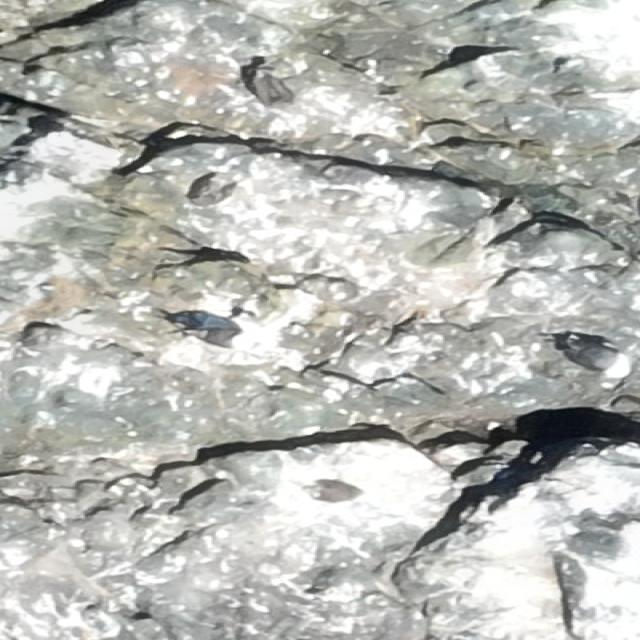umineko: (197, 320, 270, 348)
